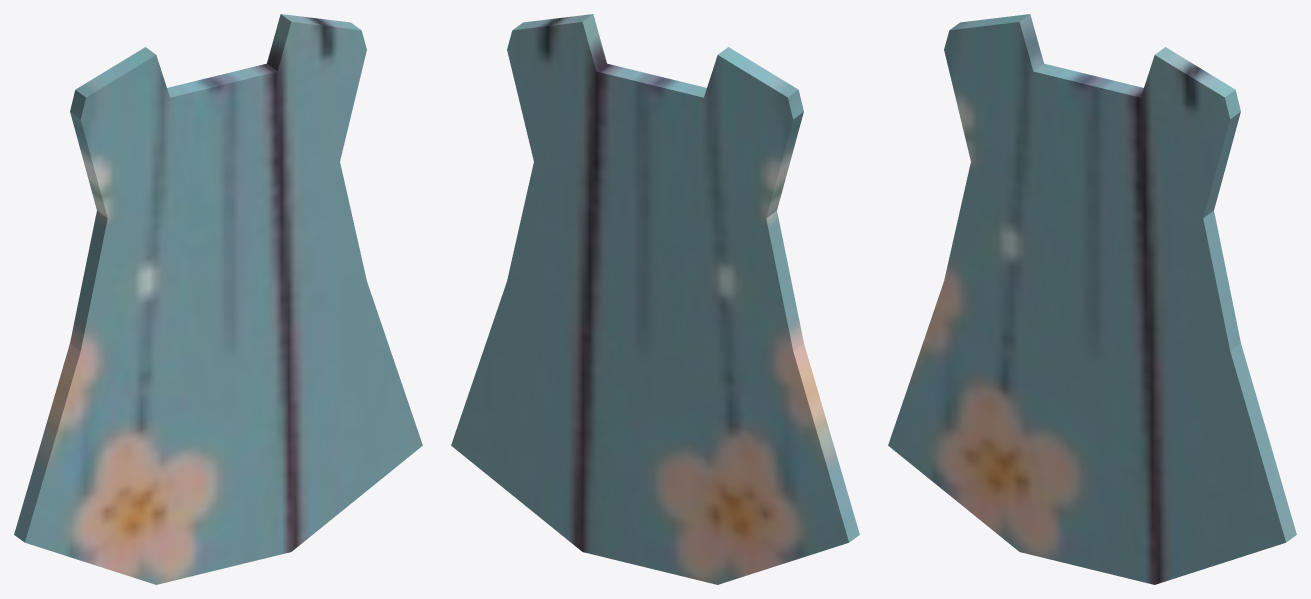
File: cloth4.fbx
The picture shows the model from 3 angles, left to right: view 1: azimuth 30°, elevation 25°; view 2: azimuth 150°, elevation 25°; view 3: azimuth 330°, elevation 25°; orthographic projection.
Visible parts, largest first — view 1: Plane.088; view 2: Plane.088; view 3: Plane.088.
Boxes of the visible parts, bbox=[...] form: Plane.088: bbox=[14, 14, 422, 584]; Plane.088: bbox=[451, 14, 859, 584]; Plane.088: bbox=[888, 14, 1296, 584].
Size of the model in its own units: 27.65 by 35.18 by 1.3.
1 material, 1 textured.
